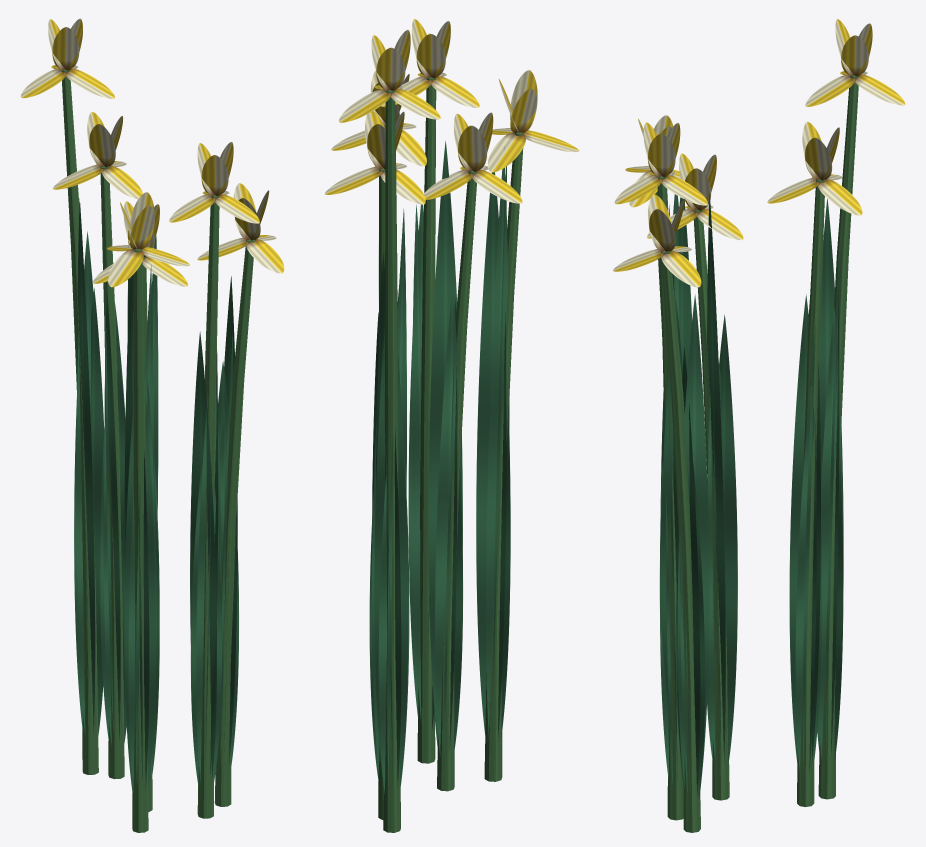
File: swamp_iris_v02.glb
3 renders of one model, left to right at view 1: azimuth 30°, elevation 25°; view 2: azimuth 150°, elevation 25°; view 3: azimuth 270°, elevation 25°, orthographic. The views are drawn at different scales.
Parts seen in each view (by area): view 1: swamp_iris_v02; view 2: swamp_iris_v02; view 3: swamp_iris_v02.
Part boxes in pixels (x1=…): swamp_iris_v02: x1=20, y1=18, x2=284, y2=832; swamp_iris_v02: x1=324, y1=19, x2=579, y2=832; swamp_iris_v02: x1=613, y1=19, x2=905, y2=832.
Bounding box in the file's own units: 0.2208 × 0.7571 × 0.2713.
Materials: 3 (3 with a texture image).
